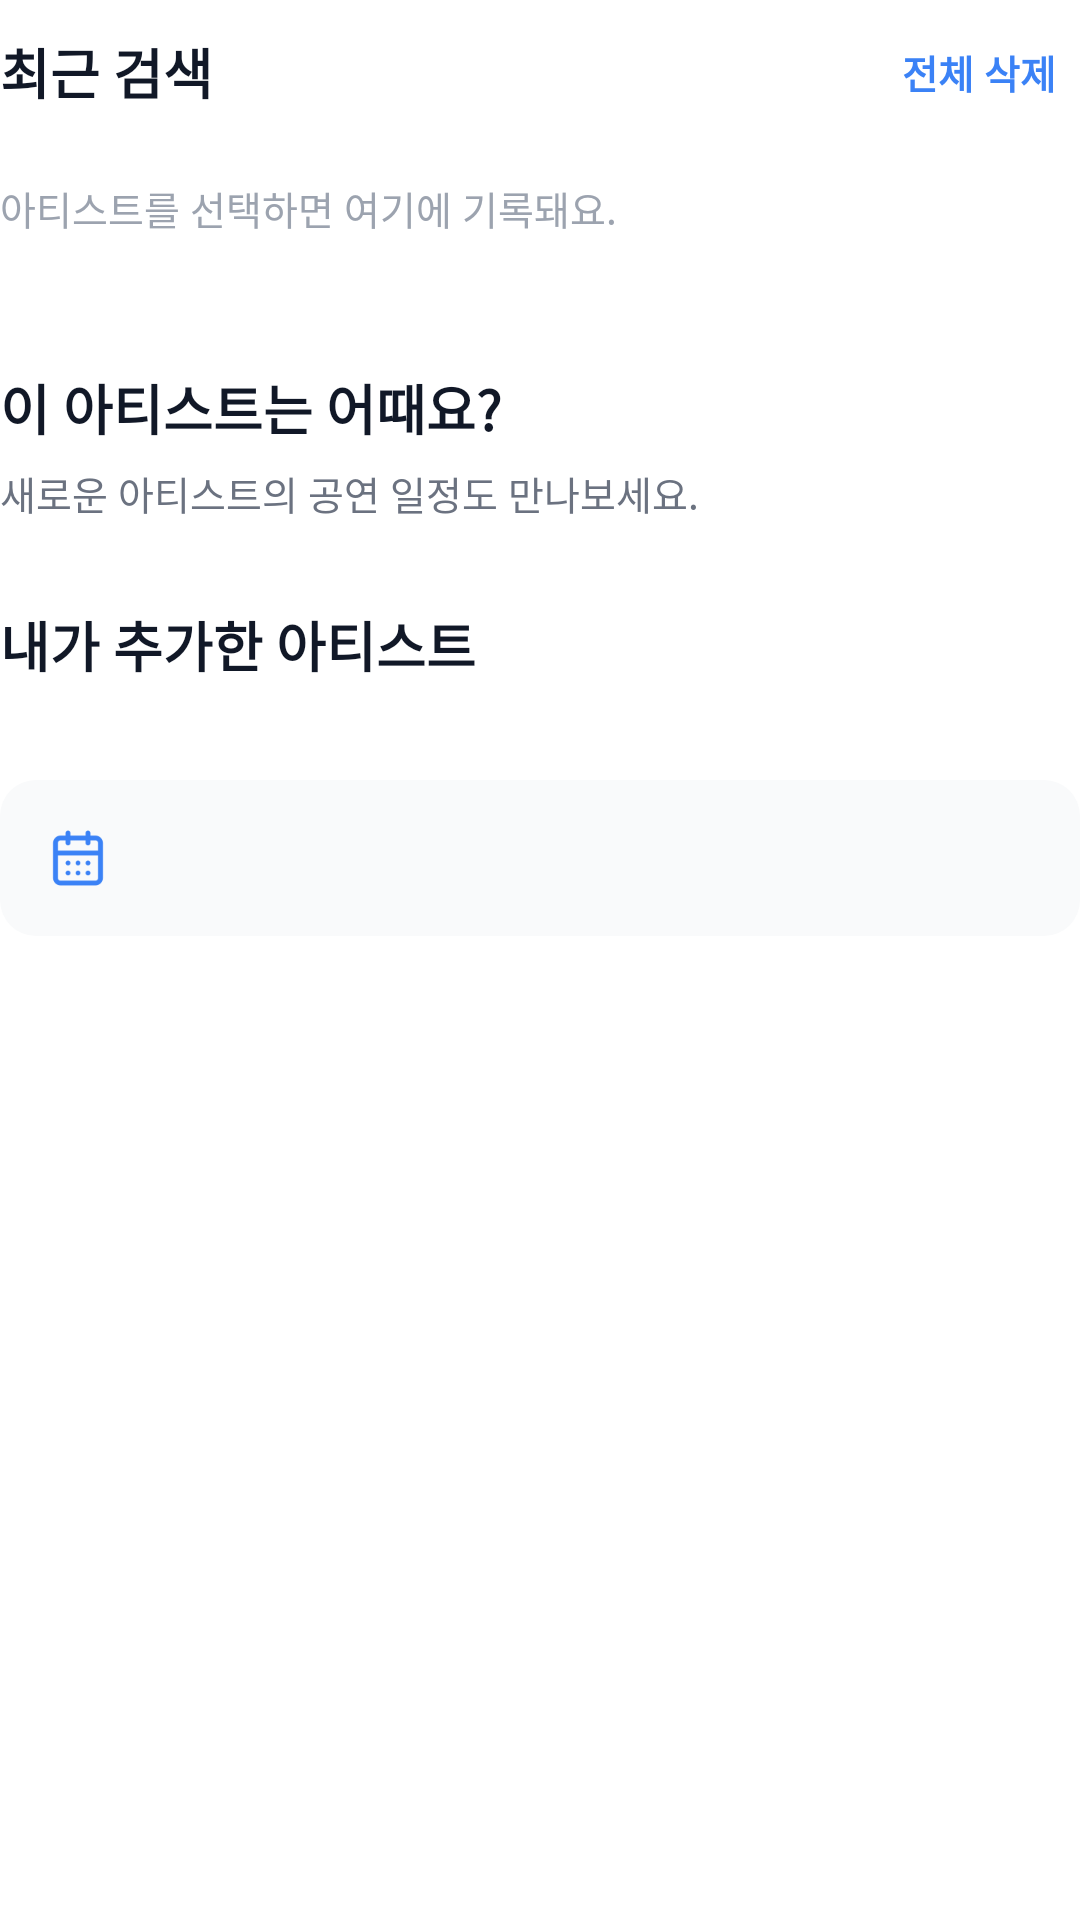

Named icons in this screenshot (1080 × 1920) and their bounding boxes, [x1=x1, y1=y1, x2=x2, y2=y2]:
calendar: [x1=53, y1=830, x2=103, y2=886]
